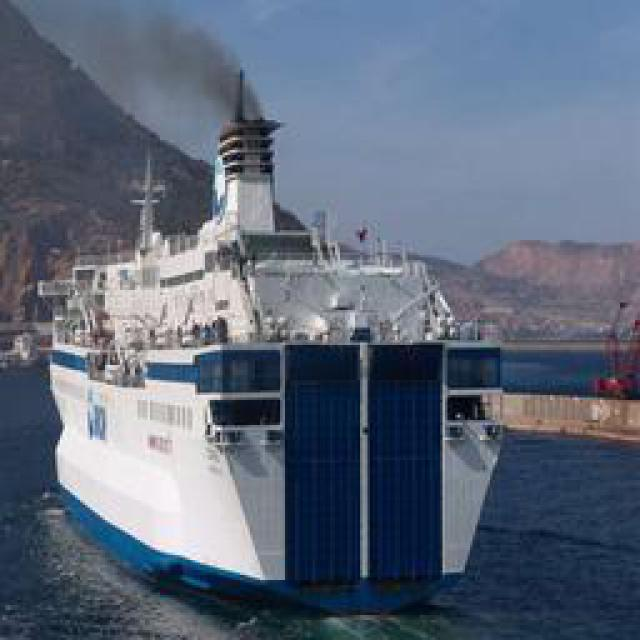Ship: (40, 219, 530, 614)
